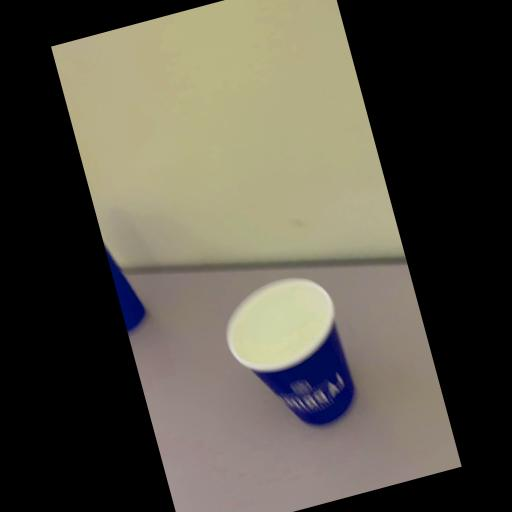lp_paper_cup: (213, 264, 366, 442), (102, 228, 149, 331)
